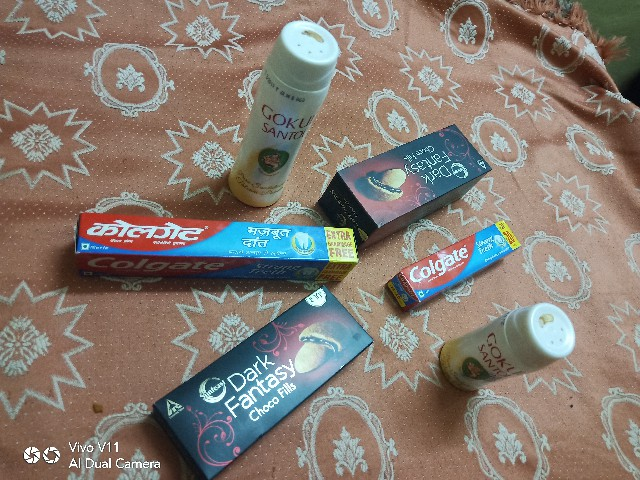colgatetoothpaste big: (48, 207, 359, 298)
colgatetoothpaste small: (379, 209, 529, 309)
darkfantasy big: (321, 122, 515, 237)
darkfantasy small: (137, 283, 384, 478)
gokulsantol big: (215, 21, 342, 213)
gokulsantol small: (429, 302, 595, 396)
